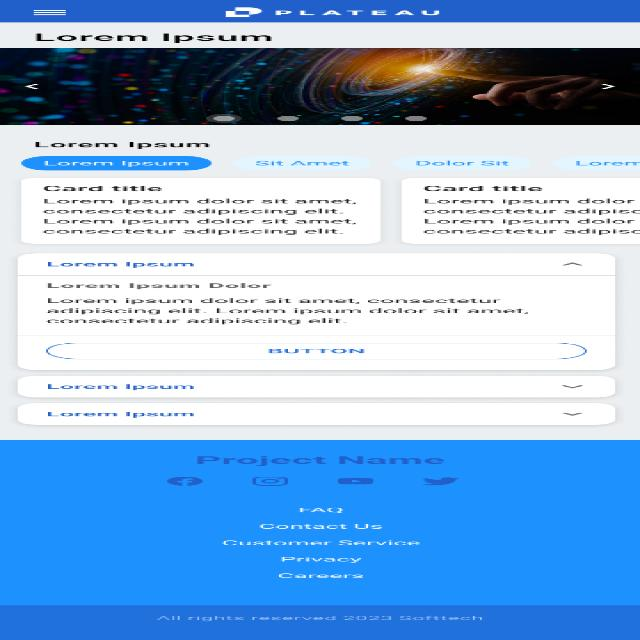QLabel: (41, 297, 536, 326), (41, 197, 364, 236), (418, 197, 640, 236), (190, 454, 452, 467), (152, 614, 488, 623), (29, 32, 278, 43), (217, 539, 426, 548), (41, 282, 275, 290), (29, 140, 214, 150), (41, 409, 203, 419), (253, 521, 394, 532), (41, 159, 193, 168), (39, 382, 201, 390), (420, 183, 548, 193), (43, 260, 196, 268), (263, 346, 370, 356), (250, 158, 355, 168), (40, 184, 166, 192), (411, 159, 512, 167), (278, 555, 367, 564), (273, 572, 369, 580), (571, 159, 640, 167), (287, 506, 350, 514)
VAppBar: (0, 0, 640, 23)
VBtn: (45, 342, 587, 360)
VCard: (19, 177, 382, 244), (400, 177, 640, 244)
VChip: (21, 156, 212, 170), (392, 155, 534, 171), (232, 156, 373, 170), (551, 156, 640, 170)
VDivider: (18, 274, 616, 277), (19, 334, 613, 336)
VExpansionPanels: (16, 253, 618, 370), (17, 402, 617, 426), (17, 375, 616, 398)
VFooter: (0, 439, 640, 640)
VIcon: (29, 8, 74, 16)
VImg: (222, 5, 449, 19), (157, 474, 213, 488), (245, 474, 295, 488), (417, 475, 463, 487), (332, 476, 380, 486)
VStepper: (0, 47, 640, 125)
